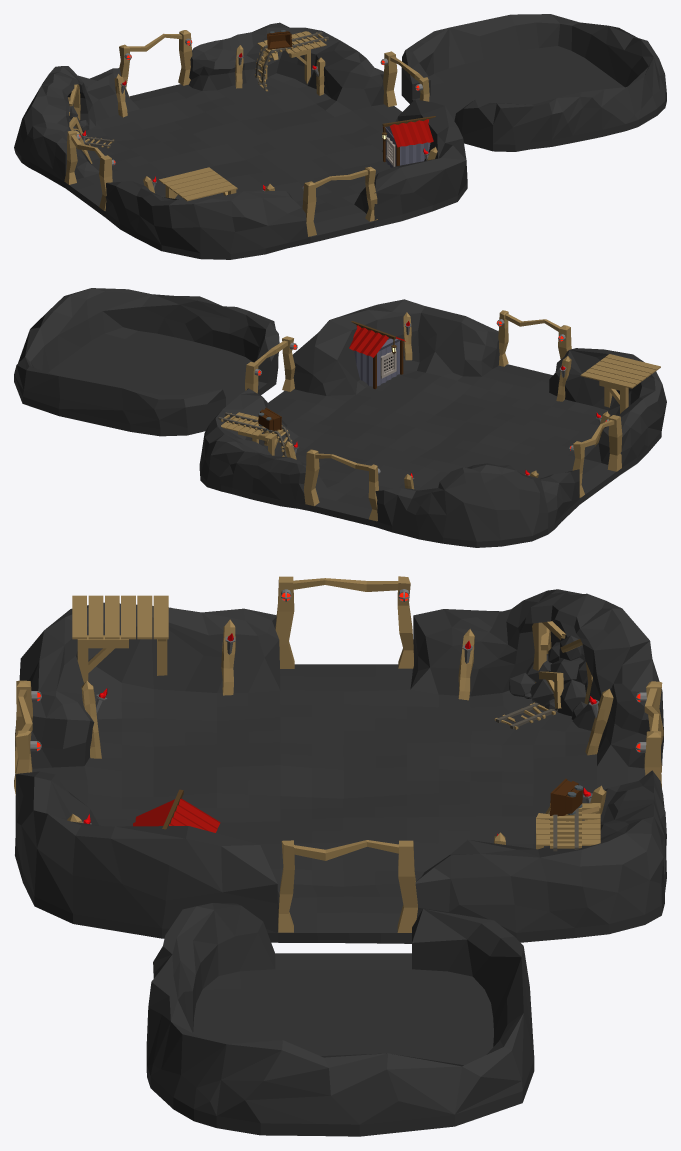
File: CrossRoom.fbx
The picture shows the model from 3 angles, top to bottom: view 1: azimuth 30°, elevation 25°; view 2: azimuth 150°, elevation 25°; view 3: azimuth 270°, elevation 25°; orthographic projection. The views are drawn at different scales.
Visible parts, largest first — view 1: Room, Start, House, Floor, beam(enter).002, column(enter).004, column(enter).002, column(enter).005, column(enter).001, beam(enter).001, Floor.001, minecart (+3 smaller); view 2: Room, Start, House, Floor, column(enter).002, beam(enter).001, column(enter).003, Floor.001, column(enter), column(enter).005, rails.002, minecart (+3 smaller); view 3: Room, Start, Floor, House, Floor.001, beam(enter).002, beam(enter).001, column(enter).003, column(enter).001, Column.001, rails.002, beam(ender.001 (+6 smaller).
Boxes of the visible parts, left/top/right/bottom form: Room: left=14, top=22, right=467, bottom=259; Start: left=401, top=14, right=666, bottom=151; House: left=382, top=116, right=435, bottom=167; Floor: left=158, top=167, right=237, bottom=201; beam(enter).002: left=383, top=51, right=397, bottom=107; column(enter).004: left=302, top=181, right=316, bottom=236; column(enter).002: left=178, top=30, right=192, bottom=85; column(enter).005: left=365, top=166, right=377, bottom=221; column(enter).001: left=64, top=130, right=77, bottom=184; beam(enter).001: left=99, top=155, right=112, bottom=210; Floor.001: left=257, top=31, right=326, bottom=60; minecart: left=267, top=30, right=292, bottom=49; Room: left=199, top=299, right=666, bottom=547; Start: left=14, top=288, right=279, bottom=436; House: left=349, top=321, right=405, bottom=389; Floor: left=580, top=354, right=660, bottom=388; column(enter).002: left=303, top=449, right=319, bottom=506; beam(enter).001: left=607, top=415, right=622, bottom=471; column(enter).003: left=282, top=336, right=295, bottom=391; Floor.001: left=221, top=412, right=283, bottom=439; column(enter): left=368, top=464, right=378, bottom=521; column(enter).005: left=498, top=310, right=508, bottom=366; rails.002: left=218, top=412, right=282, bottom=434; minecart: left=258, top=407, right=281, bottom=430; Room: left=15, top=589, right=666, bottom=943; Start: left=146, top=903, right=534, bottom=1136; Floor: left=72, top=595, right=168, bottom=639; House: left=133, top=789, right=220, bottom=832; Floor.001: left=536, top=803, right=600, bottom=845; beam(enter).002: left=397, top=840, right=417, bottom=932; beam(enter).001: left=275, top=576, right=294, bottom=668; column(enter).003: left=278, top=840, right=294, bottom=932; column(enter).001: left=397, top=576, right=413, bottom=668; Column.001: left=77, top=635, right=128, bottom=683; rails.002: left=550, top=803, right=581, bottom=851; beam(ender.001: left=294, top=840, right=398, bottom=860.
Bounding box in the file's own units: 10932 × 1300 × 6508.
